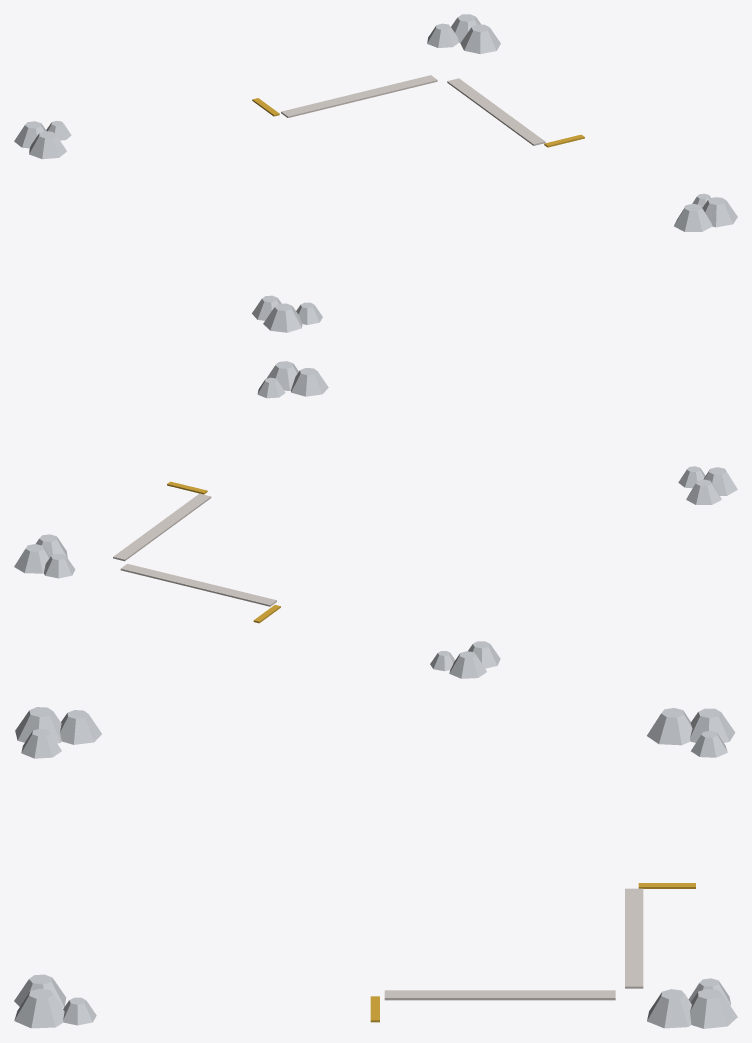
Rendered from Road_Corner_Marks.glb.
3 views of the same model, one above another, from view 1: azimuth 30°, elevation 25°; view 2: azimuth 150°, elevation 25°; view 3: azimuth 270°, elevation 25° (orthographic). The views are drawn at different scales.
Parts seen in each view (by area): view 1: Road_Corner_Marks; view 2: Road_Corner_Marks; view 3: Road_Corner_Marks.
Boxes of the visible parts, x1,y1,x2,y2 form: Road_Corner_Marks: [14, 14, 737, 332]; Road_Corner_Marks: [14, 361, 737, 678]; Road_Corner_Marks: [14, 707, 737, 1028].
Bounding box in the file's own units: 31.56 × 1.65 × 31.62.
